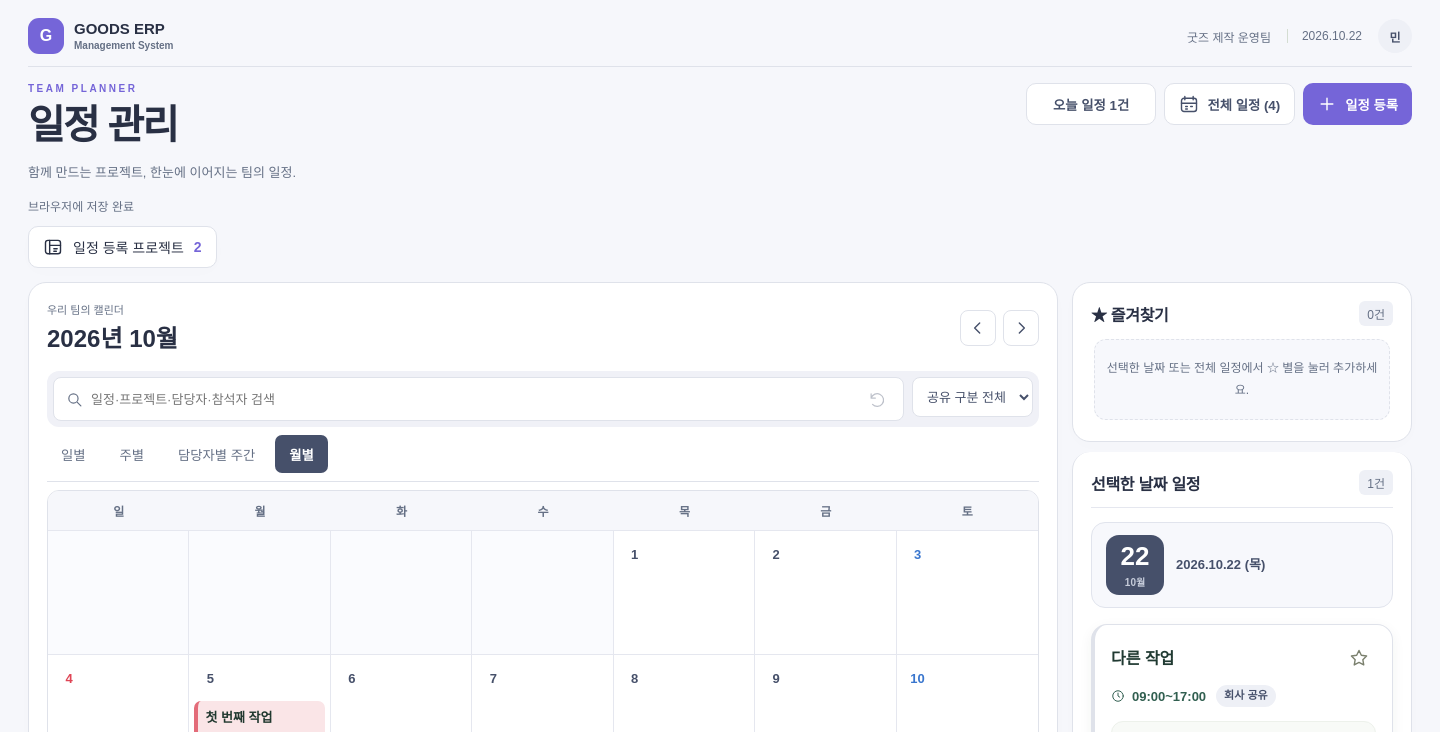
Test case: 프로젝트·담당자·참석자 검색은 달력에 반영하고 별도 검색 목록은 만들지 않는다
Type " 검색 프로젝트 " into the field named "일정 검색" at (473, 399), box [91, 378, 855, 420]
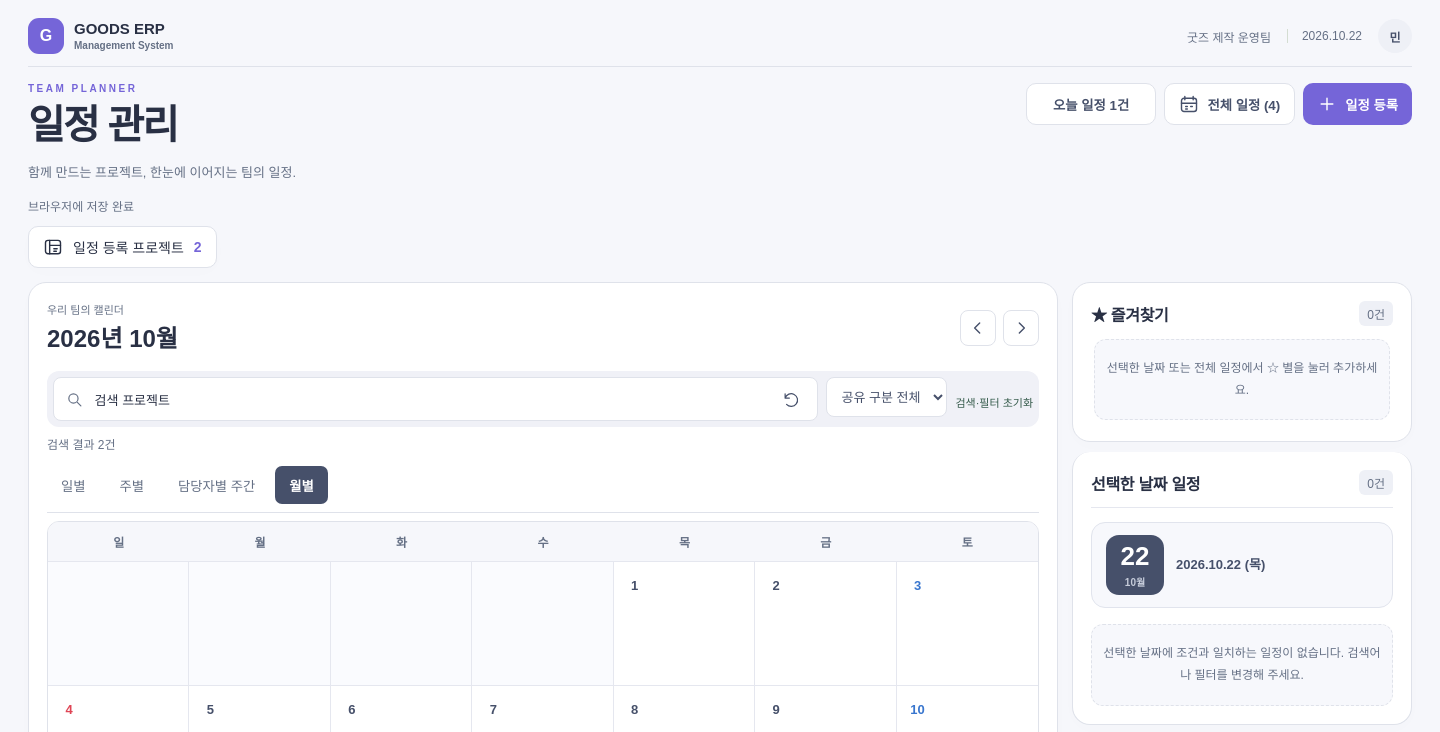
Now the text "검색 결과 2건" is shown, box [47, 435, 116, 452]
Replace the text in the field named "일정 검색" with "김담당" at (430, 399), box [91, 378, 769, 420]
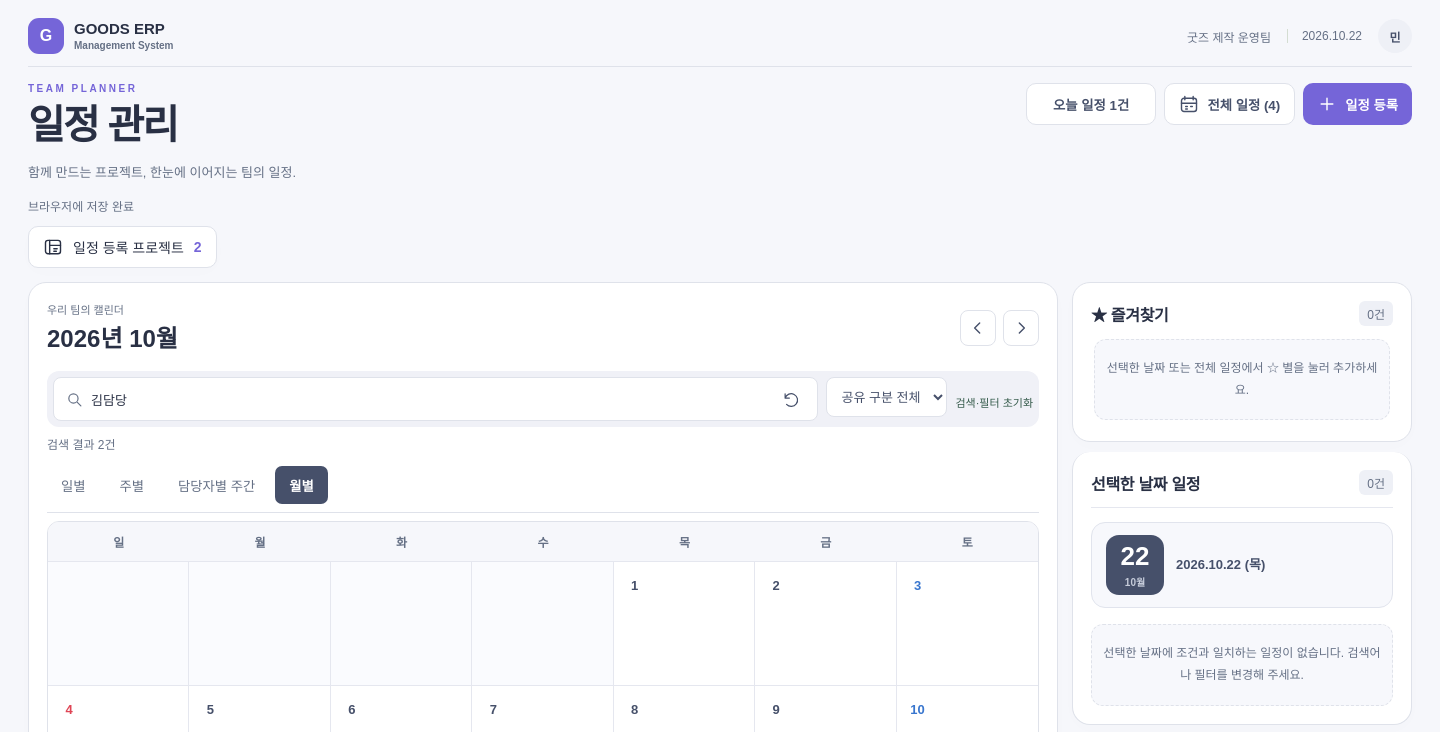
Now the text "검색 결과 2건" is shown, box [47, 435, 116, 452]
Replace the text in the field named "일정 검색" with "이참석" at (430, 399), box [91, 378, 769, 420]
(page scrolled)
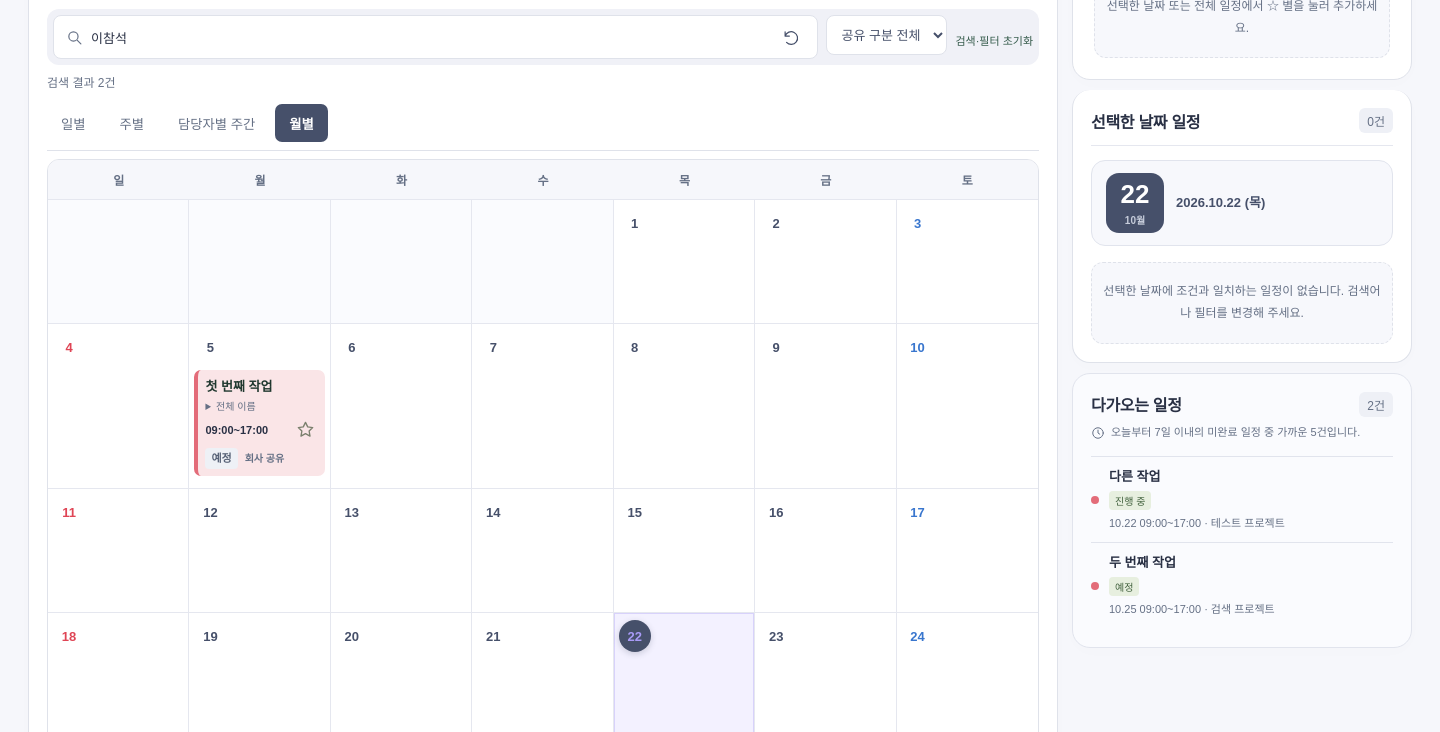
Now the text "검색 결과 2건" is shown, box [47, 73, 116, 90]
Click the text "5" at (260, 406), box [189, 323, 331, 488]
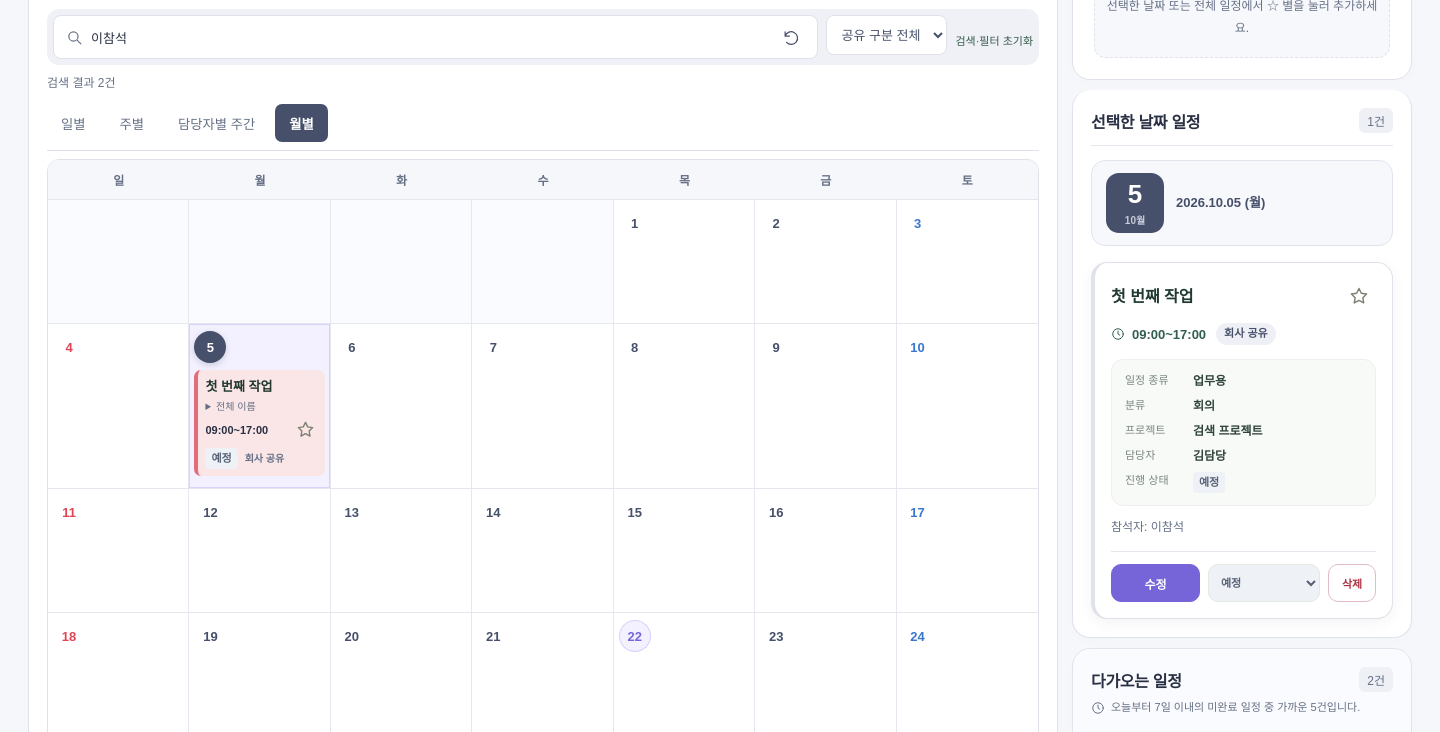
Now the element "선택한 날짜 일정" shows "2026.10.05", box [1176, 195, 1241, 210]
Click the button named "검색 초기화" at (791, 37), box [777, 23, 805, 51]
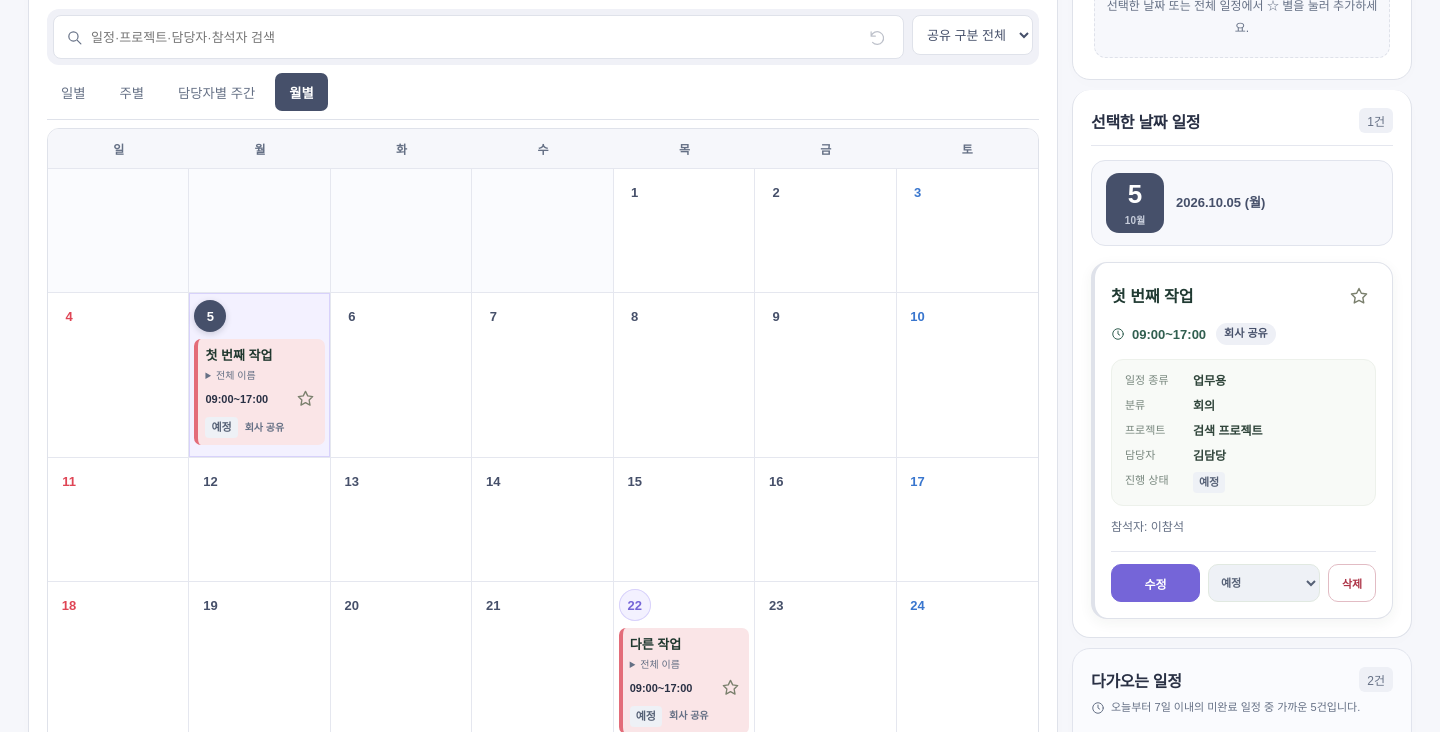
Now the field named "일정 검색" is empty, box [91, 16, 855, 58]
